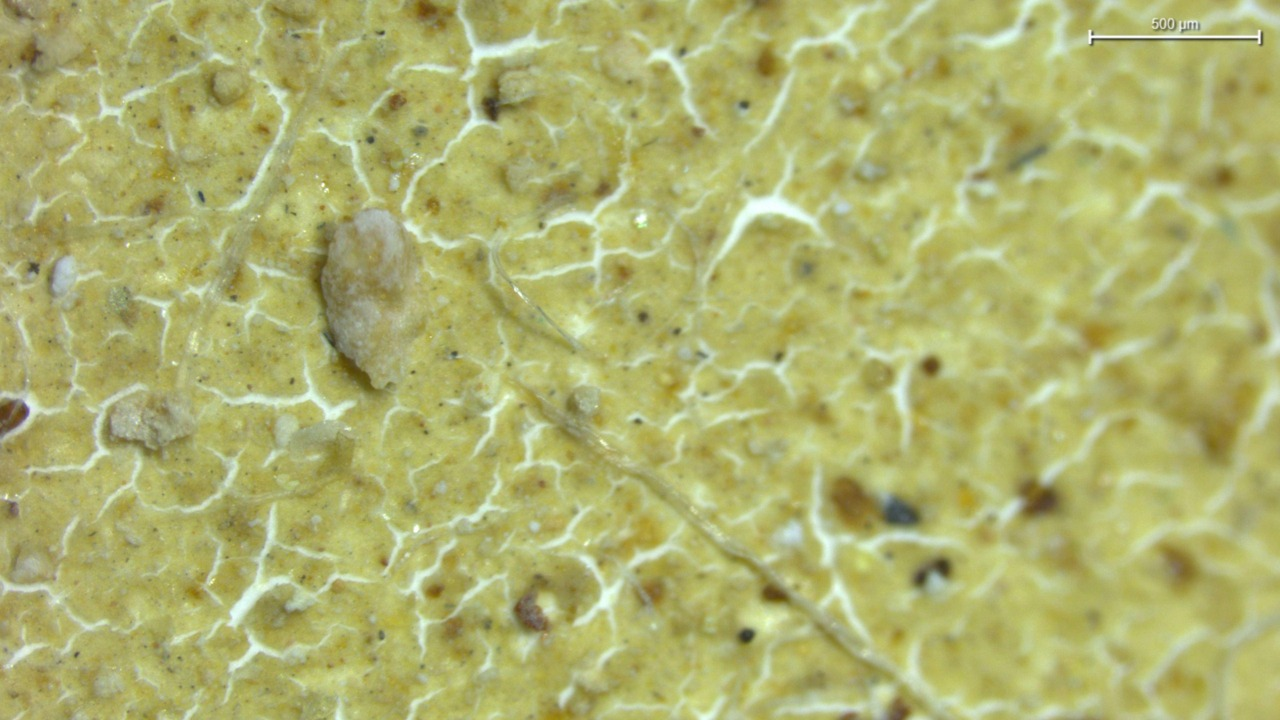microplastic_fragment: (321, 209, 423, 389), (108, 391, 194, 449), (498, 70, 535, 105), (50, 255, 78, 299)
